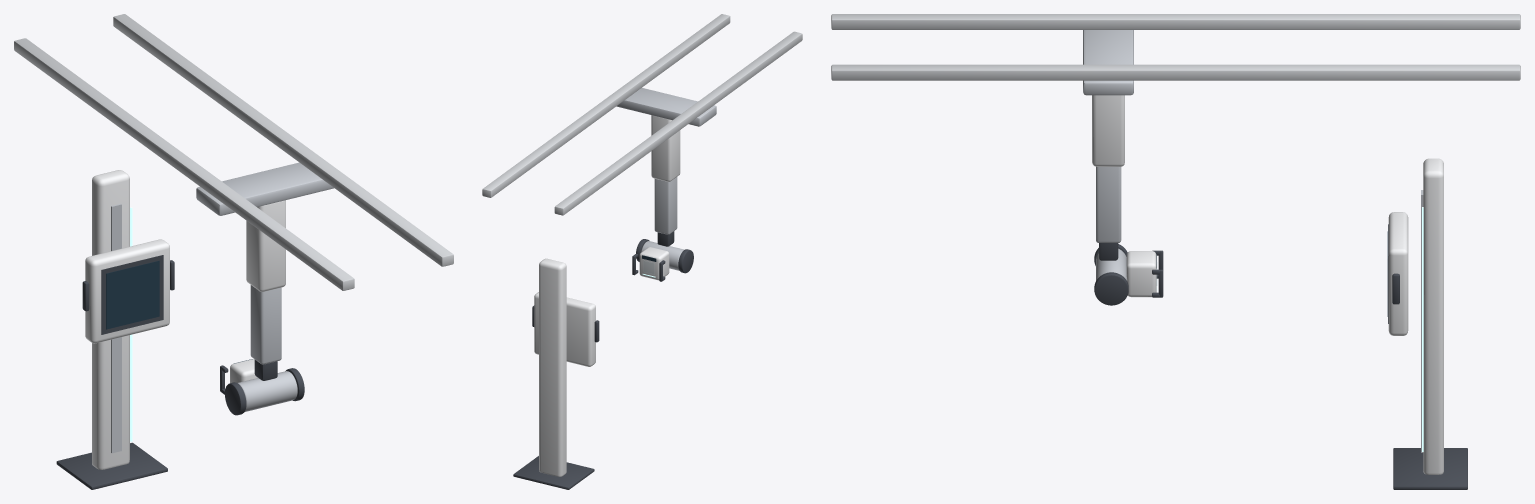
Rendered from XRay_Room.fbx.
3 renders of one model, left to right at view 1: azimuth 30°, elevation 25°; view 2: azimuth 150°, elevation 25°; view 3: azimuth 270°, elevation 25°, orthographic. The views are drawn at different scales.
Visible parts, largest first — view 1: XR_RailL, XR_RailR, XR_StandColumn, XR_BuckyBody, XR_Carriage, XR_DetectorFace, XR_ColumnOuter, XR_ColumnInner, XR_StandBase, XR_StandRail, XR_TubeHousing, XR_DetectorFrame (+2 smaller); view 2: XR_StandColumn, XR_RailR, XR_RailL, XR_BuckyBody, XR_Carriage, XR_ColumnOuter, XR_ColumnInner, XR_StandBase, XR_Collimator, XR_TubeHousing; view 3: XR_RailR, XR_RailL, XR_StandColumn, XR_StandBase, XR_Carriage, XR_ColumnOuter, XR_BuckyBody, XR_ColumnInner, XR_Collimator, XR_TubeCapR.
Part boxes in pixels (x1,y1,x2,y2): XR_RailL: (14,38,354,290); XR_RailR: (113,14,453,266); XR_StandColumn: (92,170,129,469); XR_BuckyBody: (85,239,169,343); XR_Carriage: (196,162,333,215); XR_DetectorFace: (106,260,159,329); XR_ColumnOuter: (246,200,285,291); XR_ColumnInner: (250,285,281,364); XR_StandBase: (56,442,167,489); XR_StandRail: (111,203,121,453); XR_TubeHousing: (238,371,297,411); XR_DetectorFrame: (101,255,163,334); XR_StandColumn: (539,258,566,476); XR_RailR: (482,14,730,197); XR_RailL: (554,31,802,215); XR_BuckyBody: (534,292,595,366); XR_Carriage: (616,88,716,126); XR_ColumnOuter: (651,115,680,181); XR_ColumnInner: (654,177,677,234); XR_StandBase: (513,456,594,489); XR_Collimator: (639,247,669,280); XR_TubeHousing: (641,241,684,270); XR_RailR: (831,64,1520,80); XR_RailL: (831,14,1520,29); XR_StandColumn: (1423,158,1443,474); XR_StandBase: (1393,448,1467,489); XR_Carriage: (1083,30,1133,95); XR_ColumnOuter: (1092,95,1124,166); XR_BuckyBody: (1388,212,1408,335); XR_ColumnInner: (1096,166,1121,242); XR_Collimator: (1126,251,1156,297); XR_TubeCapR: (1094,272,1128,305).
Size of the model in its own units: 0.95 by 3.16 by 4.6.
